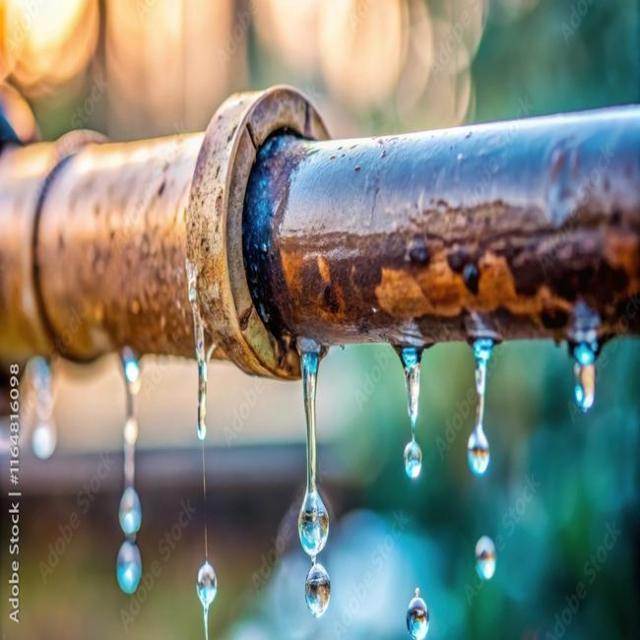water drop: (291, 337, 330, 554), (390, 342, 430, 480), (116, 348, 142, 536), (462, 334, 497, 472), (25, 358, 58, 459), (566, 333, 605, 413), (191, 314, 210, 439), (118, 540, 142, 594), (305, 565, 330, 616), (405, 594, 430, 640), (196, 561, 216, 605), (475, 537, 496, 578)
